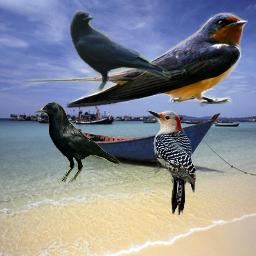Crow: (70, 9, 171, 91), (34, 102, 120, 183)
Swallow: (21, 11, 248, 108)
Woodpecker: (147, 110, 196, 215)
